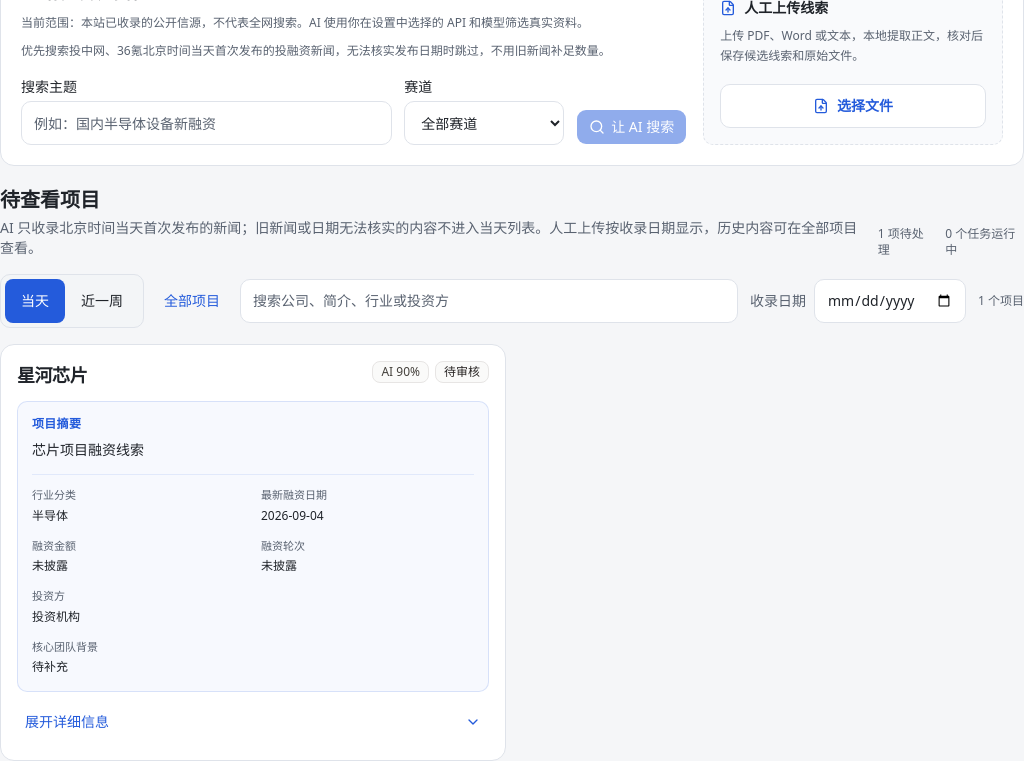
Test: moves a deferred candidate out of the daily queue with a clear archive destination
(page scrolled)
Click the button with aria-label "查看项目详情" at point(67, 722), box [17,700,489,744]
(page scrolled)
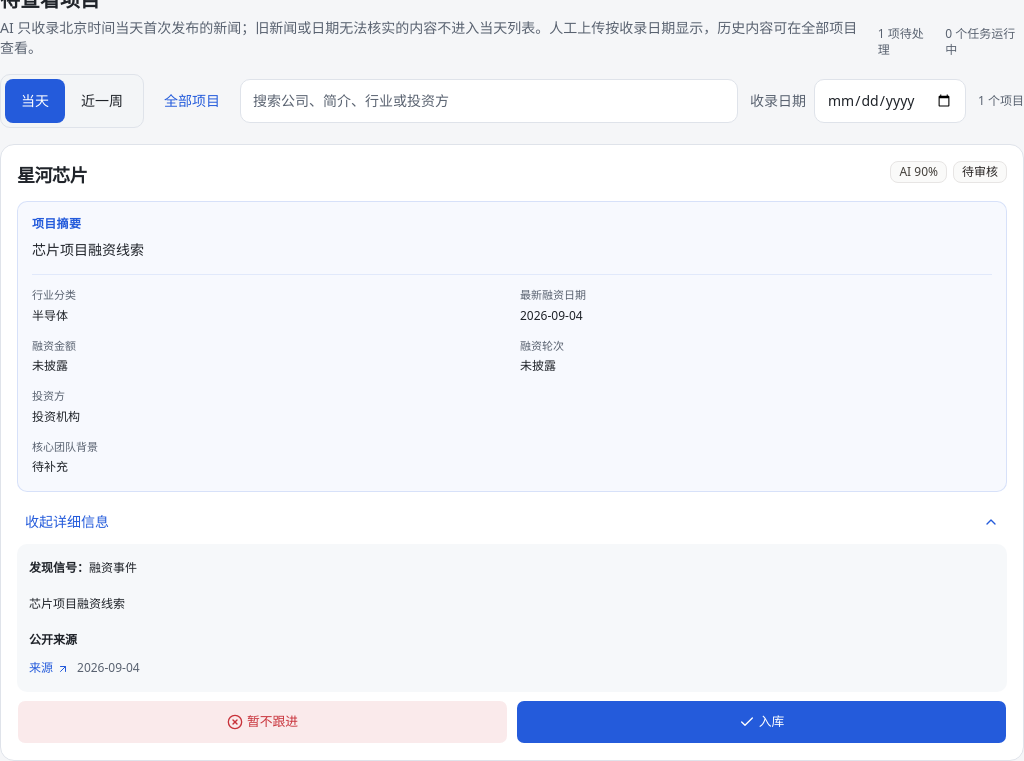
Click the button "暂不跟进" at point(262, 722), box [17,700,508,744]
(page scrolled)
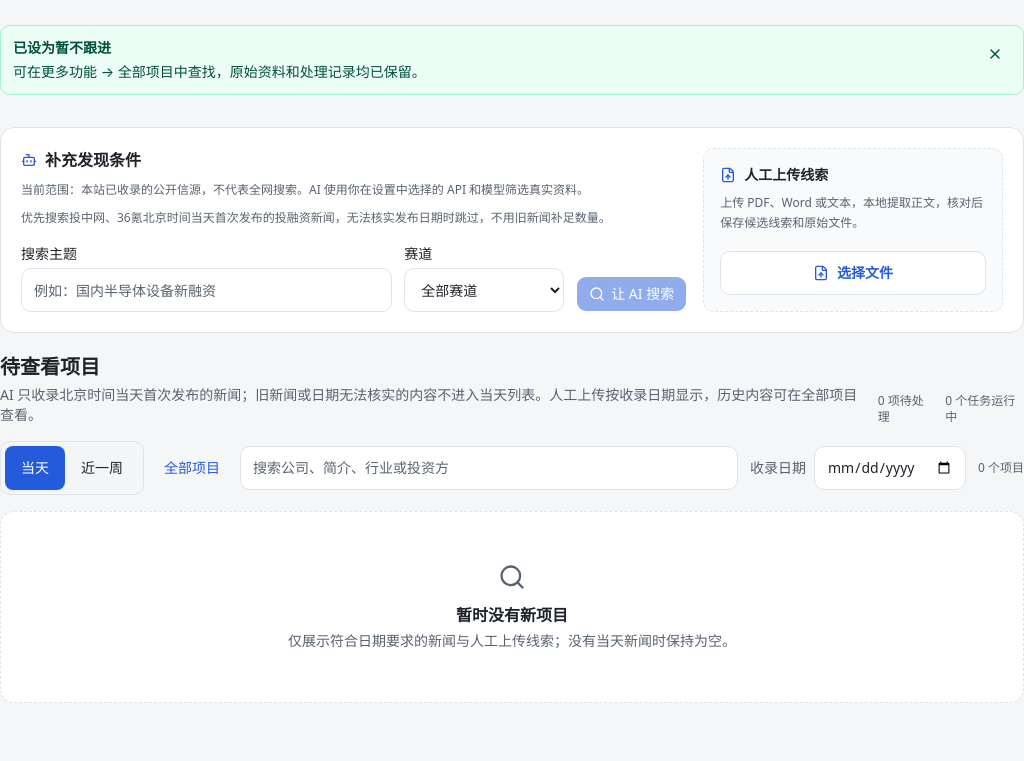
expect the heading "星河芯片" is gone: met
expect the text "可在更多功能 → 全部项目中查找，原始资料和处理记录均已保留。" is shown: met, box [13,62,426,81]
